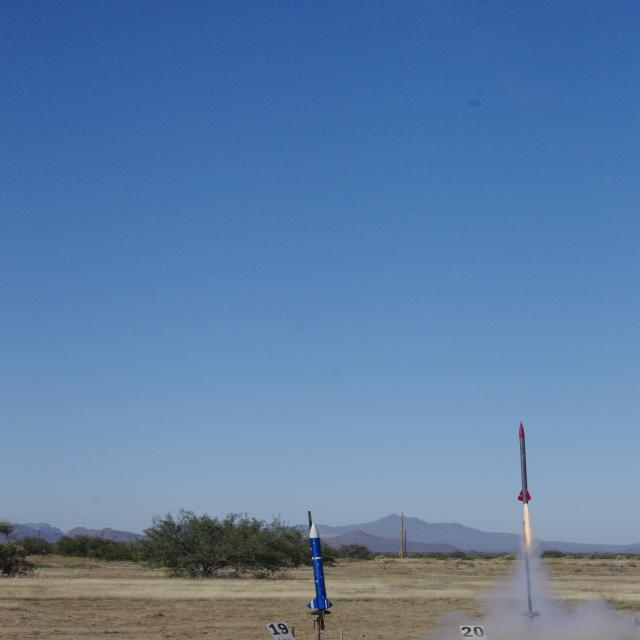Rocket: (304, 522, 334, 610), (518, 421, 532, 505)
